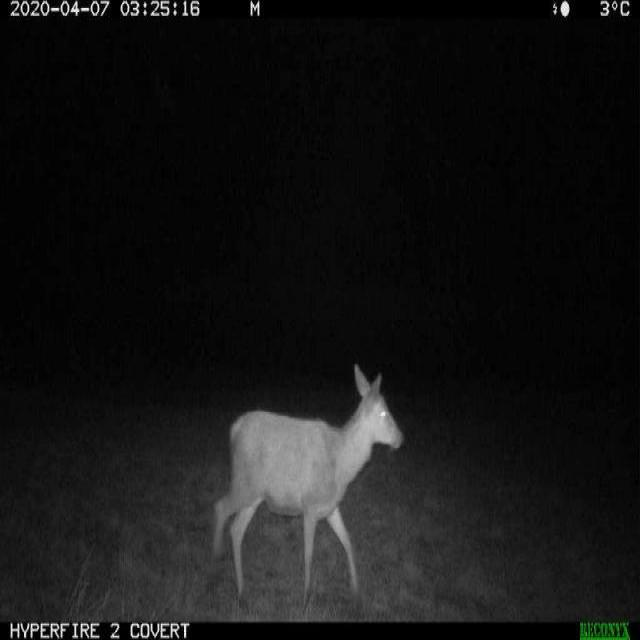deer: (178, 329, 420, 618)
